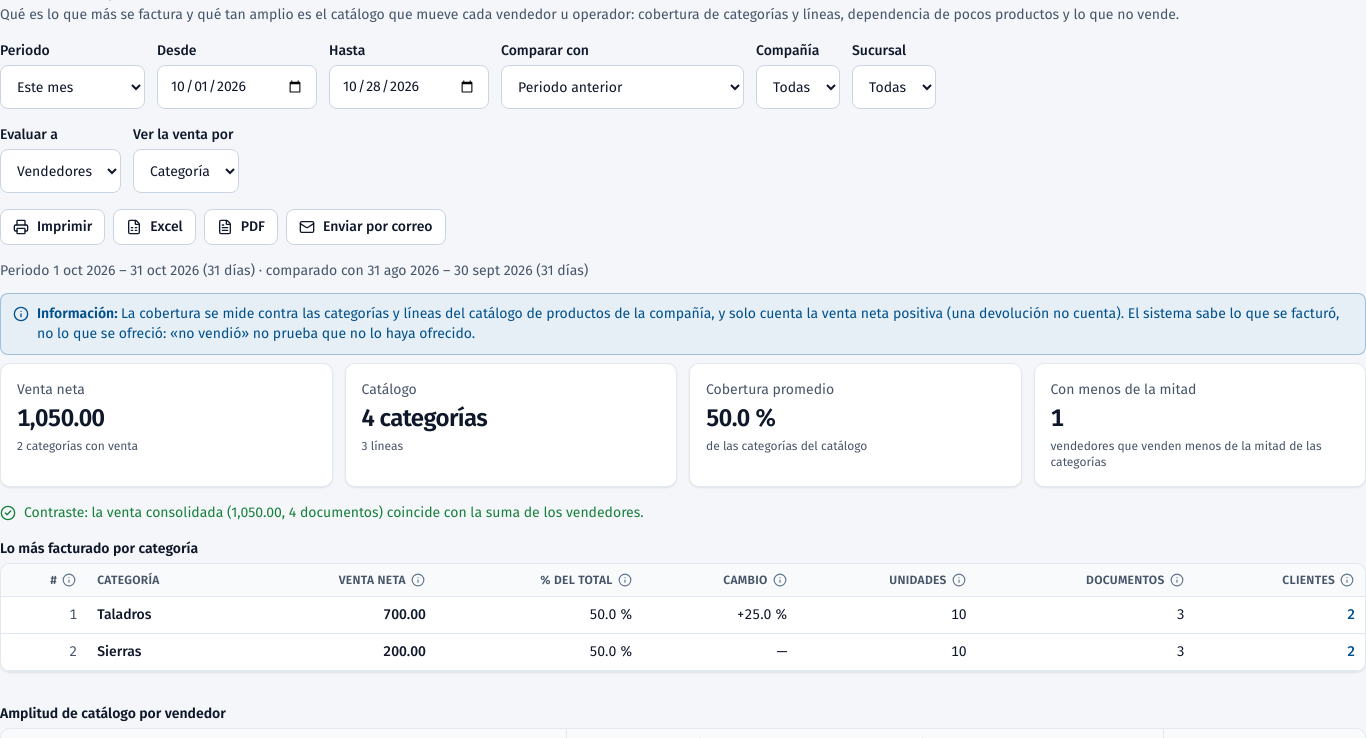
Test case: mezcla de productos › no muestra filas de vendedores bajo «Operadores» mientras llegan las nuevas
Select "Operadores" in the dropdown labelled "Evaluar a": [60, 171] box [0, 149, 121, 193]
(page scrolled)
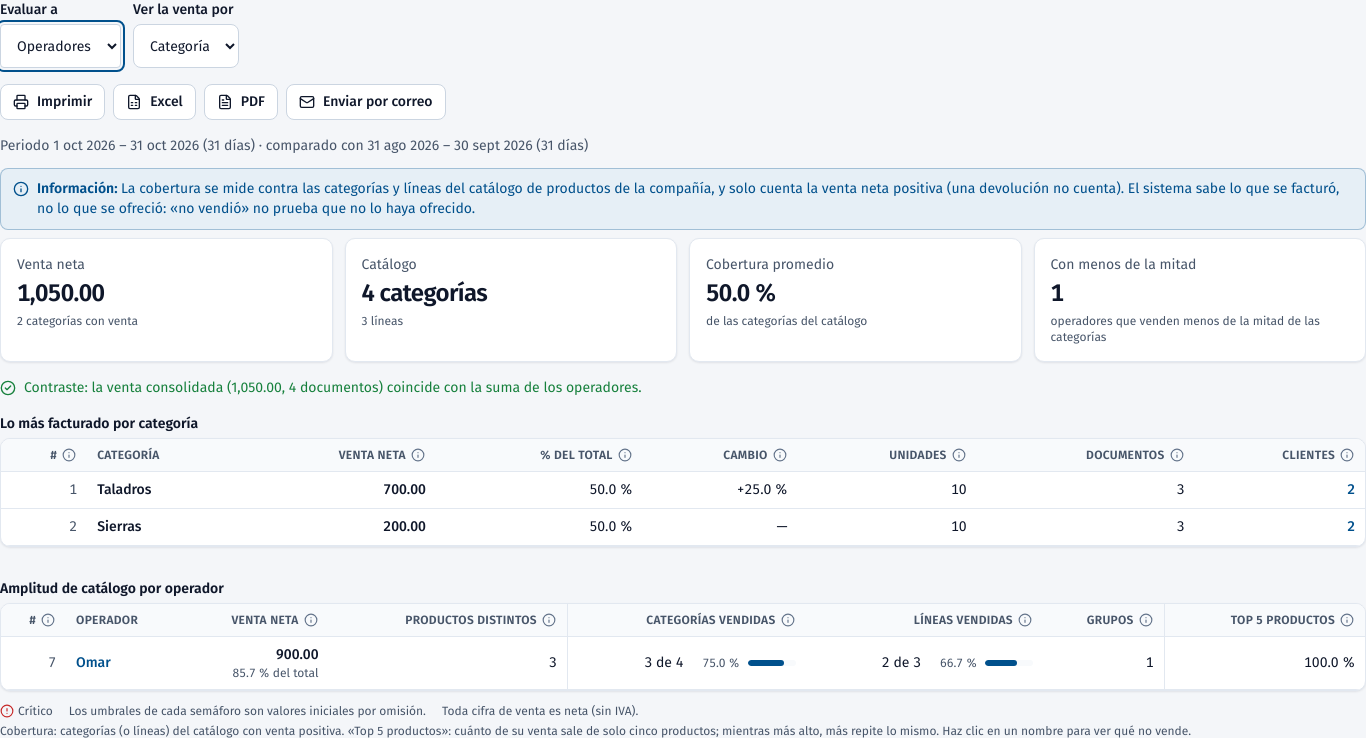
Check: the button with aria-label "Ver el detalle de Omar" is shown, box [76, 653, 111, 673]
